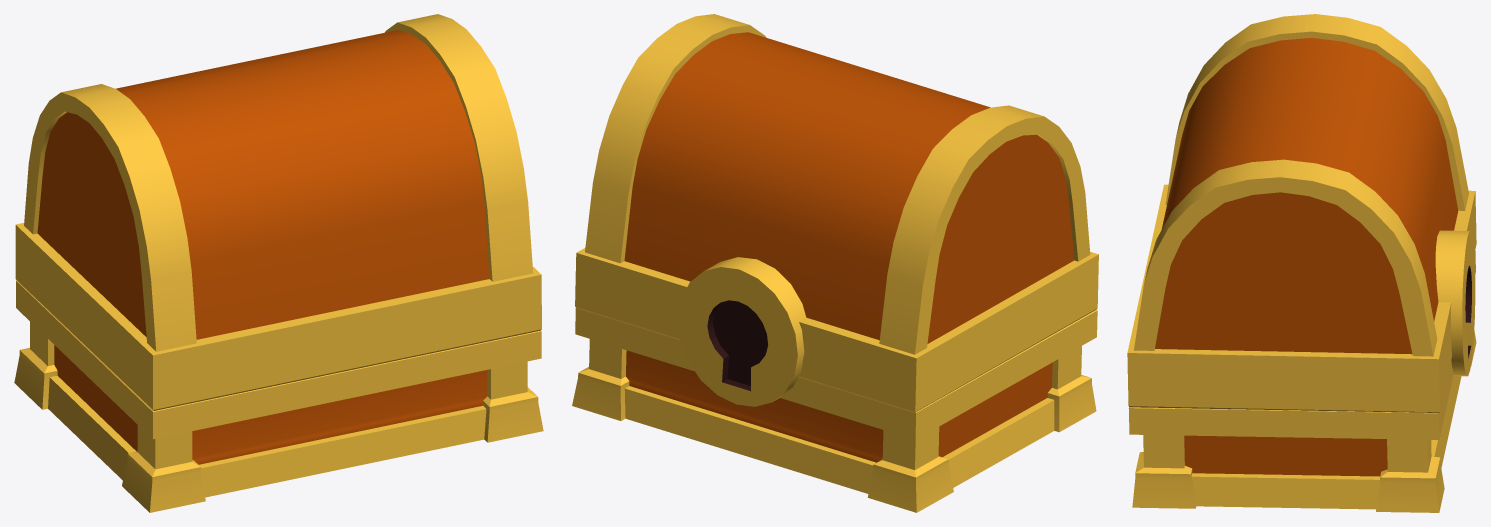
Rendered from chest1. animation appearing.fbx.
3 views of the same model, side by side, from view 1: azimuth 30°, elevation 25°; view 2: azimuth 150°, elevation 25°; view 3: azimuth 270°, elevation 25° (orthographic). The views are drawn at different scales.
Visible parts, largest first — view 1: Chest_Top002, Chest_Bottom001; view 2: Chest_Top002, Chest_Bottom001, Cylinder001; view 3: Chest_Top002, Chest_Bottom001, Cylinder001.
Boxes of the visible parts, box(x1,y1,x2,y2) form: Chest_Top002: box(15, 14, 541, 410); Chest_Bottom001: box(14, 280, 543, 512); Chest_Top002: box(575, 14, 1098, 413); Chest_Bottom001: box(572, 308, 1097, 512); Cylinder001: box(677, 257, 806, 406); Chest_Top002: box(1127, 14, 1476, 413); Chest_Bottom001: box(1128, 250, 1476, 512); Cylinder001: box(1435, 230, 1475, 376).
Size of the model in its own units: 87.08 by 72.94 by 68.89.
